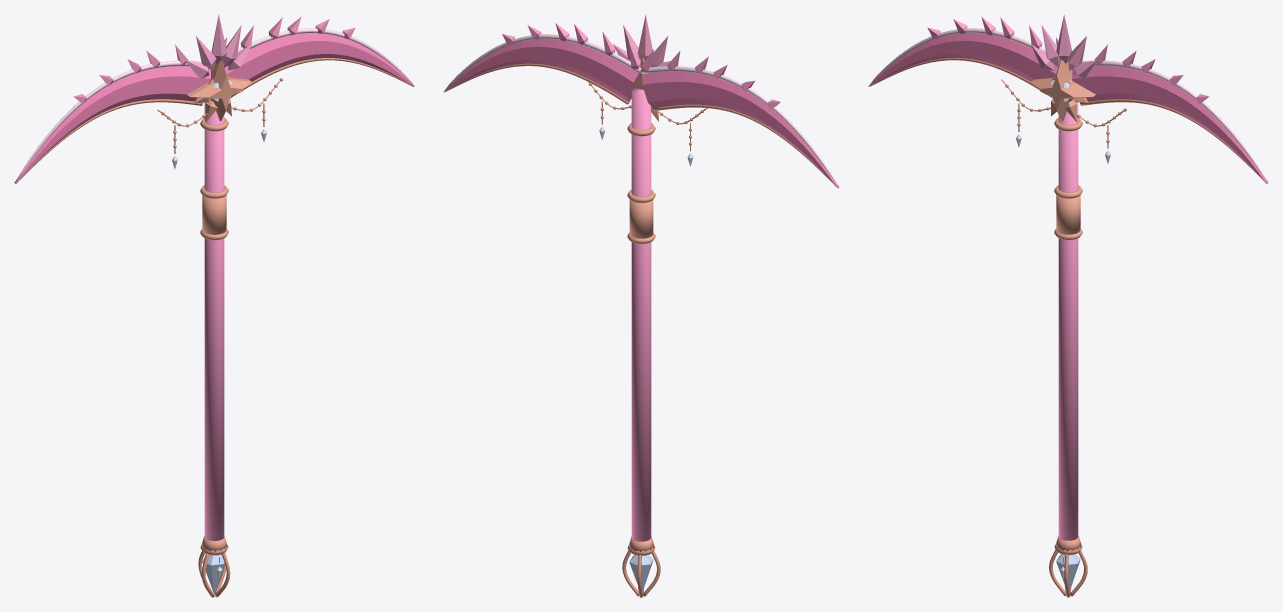
Rendered from RoseThornPickaxe.glb.
3 views of the same model, side by side, from view 1: azimuth 30°, elevation 25°; view 2: azimuth 150°, elevation 25°; view 3: azimuth 330°, elevation 25° (orthographic).
Visible parts, largest first — view 1: RoseThornPickaxe_Glass, RoseThornPickaxe_SmoothPlastic, RoseThornPickaxe_Metal; view 2: RoseThornPickaxe_Glass, RoseThornPickaxe_SmoothPlastic, RoseThornPickaxe_Metal; view 3: RoseThornPickaxe_Glass, RoseThornPickaxe_SmoothPlastic, RoseThornPickaxe_Metal.
Boxes of the visible parts, x1=… form: RoseThornPickaxe_Glass: x1=14, y1=14, x2=414, y2=594; RoseThornPickaxe_SmoothPlastic: x1=15, y1=28, x2=414, y2=540; RoseThornPickaxe_Metal: x1=21, y1=58, x2=413, y2=597; RoseThornPickaxe_Glass: x1=443, y1=14, x2=839, y2=591; RoseThornPickaxe_SmoothPlastic: x1=443, y1=34, x2=838, y2=541; RoseThornPickaxe_Metal: x1=444, y1=57, x2=830, y2=597; RoseThornPickaxe_Glass: x1=868, y1=14, x2=1268, y2=591; RoseThornPickaxe_SmoothPlastic: x1=869, y1=28, x2=1267, y2=540; RoseThornPickaxe_Metal: x1=869, y1=58, x2=1261, y2=597.
Size of the model in its own units: 3.23 by 4.52 by 0.2898.
4 materials, 4 textured.
